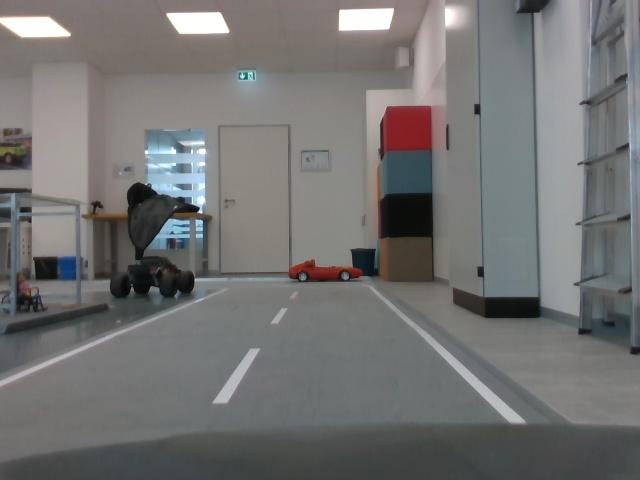car: (108, 253, 206, 306), (288, 252, 368, 286)
person: (2, 267, 49, 316)
